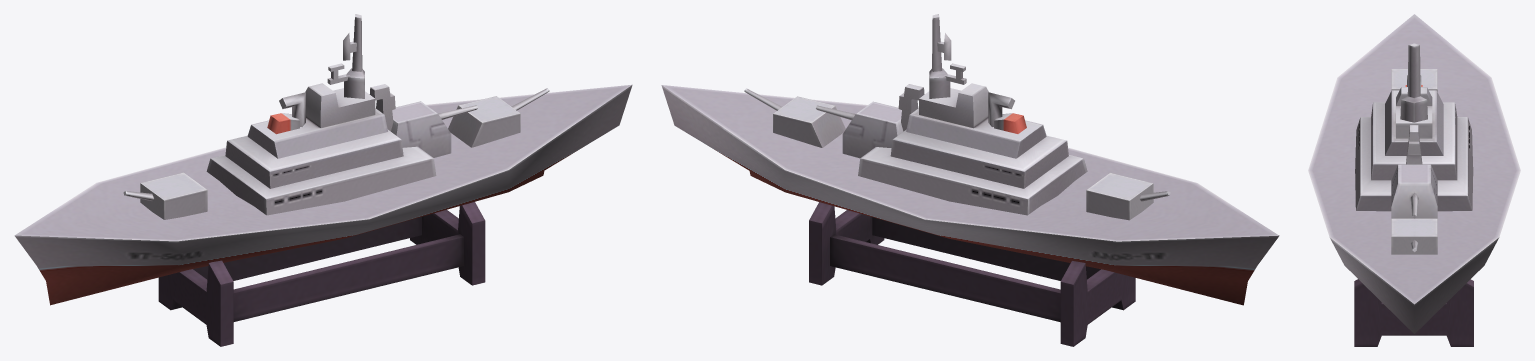
Rendered from WuZhengDiaoChaKe_01_junjianmoxing_01.FBX.
3 views of the same model, side by side, from view 1: azimuth 30°, elevation 25°; view 2: azimuth 150°, elevation 25°; view 3: azimuth 270°, elevation 25° (orthographic). The views are drawn at different scales.
Parts seen in each view (by area): view 1: WuZhengDiaoChaKe_01_junjianmoxing_01; view 2: WuZhengDiaoChaKe_01_junjianmoxing_01; view 3: WuZhengDiaoChaKe_01_junjianmoxing_01.
Part boxes in pixels (<box>): WuZhengDiaoChaKe_01_junjianmoxing_01: <box>14,14,632,346</box>; WuZhengDiaoChaKe_01_junjianmoxing_01: <box>661,14,1279,346</box>; WuZhengDiaoChaKe_01_junjianmoxing_01: <box>1308,14,1520,346</box>.
Bounding box in the file's own units: 431 × 178 × 133.
